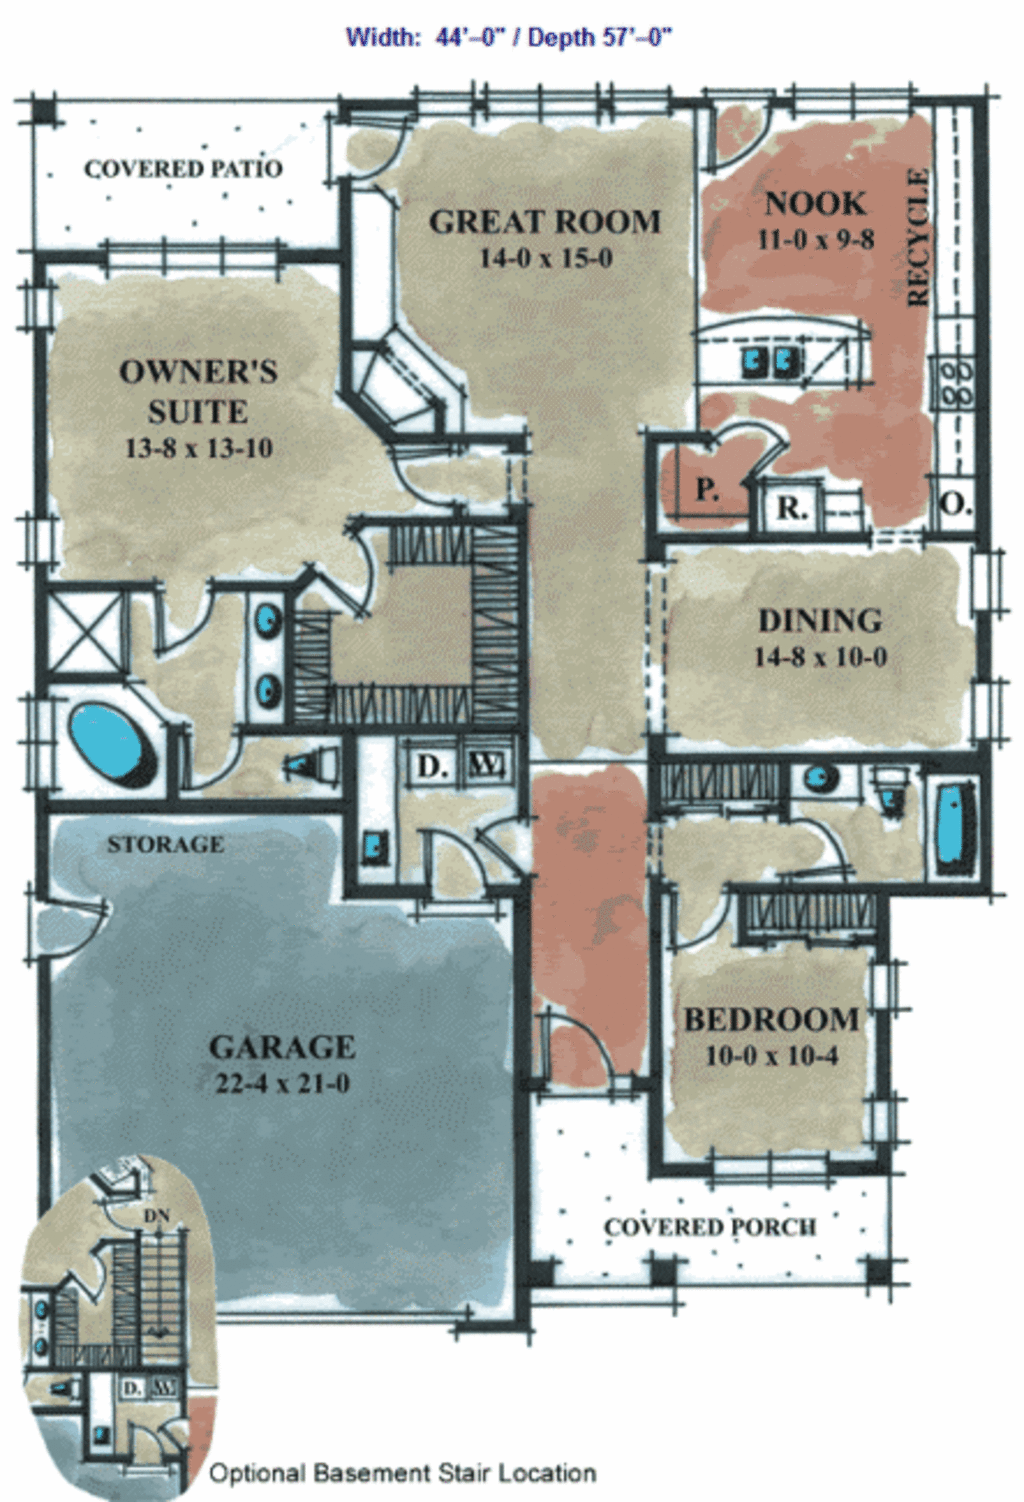door: (516, 990, 630, 1092), (21, 878, 127, 978), (297, 522, 390, 627), (688, 94, 776, 196), (700, 401, 797, 485), (658, 878, 741, 968), (316, 108, 409, 189), (416, 822, 493, 916), (167, 710, 244, 804), (146, 575, 218, 667), (776, 808, 865, 880), (397, 443, 474, 520), (469, 806, 541, 887), (88, 1187, 183, 1241), (116, 1415, 182, 1481), (62, 1245, 118, 1299)
kitchen_bar: (682, 286, 879, 391)
large_sink: (272, 722, 341, 799), (866, 757, 914, 831), (46, 1373, 92, 1408)
small_sink: (232, 589, 290, 724), (779, 754, 865, 799), (25, 1289, 67, 1366)
stairs: (132, 1232, 197, 1371)
tub: (62, 678, 167, 813), (921, 778, 993, 885)
twin_sink: (729, 324, 814, 396)
window: (95, 231, 281, 286), (9, 687, 62, 808), (14, 506, 72, 566), (16, 282, 67, 336)
